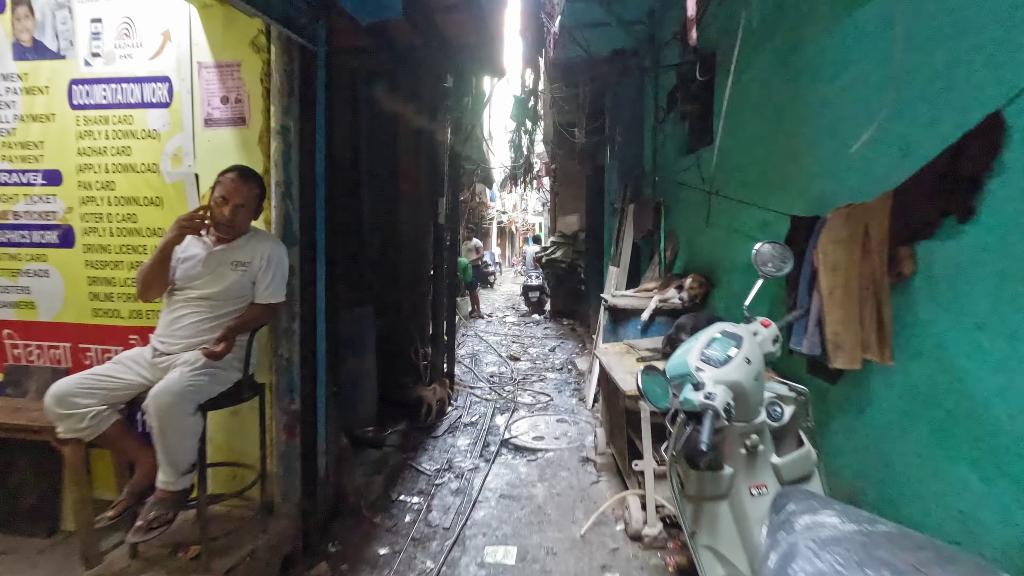garbage: (479, 540, 533, 567)
